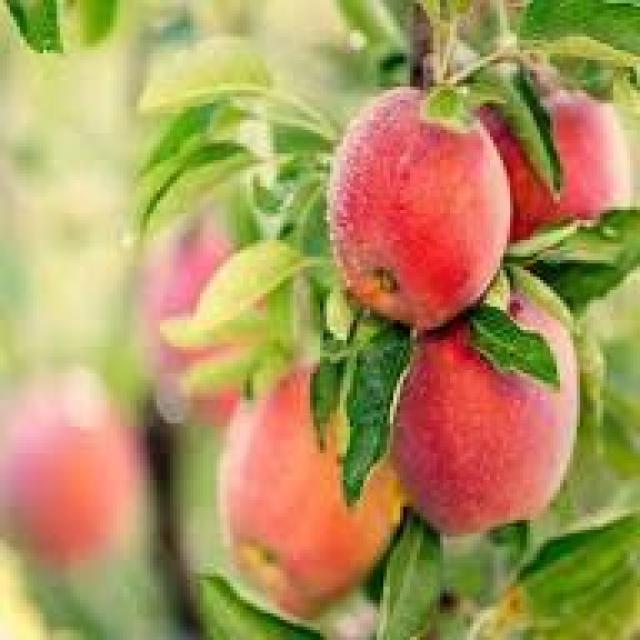apple: (396, 303, 586, 547), (217, 360, 400, 607), (334, 87, 514, 310), (480, 80, 640, 260)
